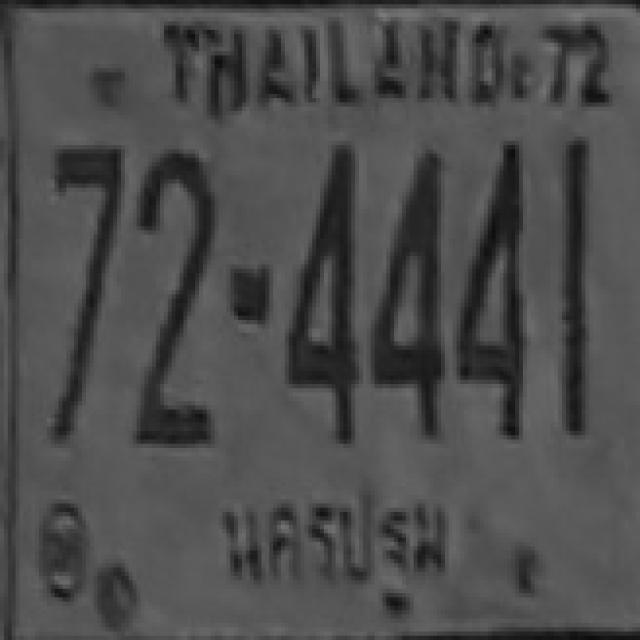1: (558, 139, 589, 356)
2: (130, 247, 212, 444)
7: (51, 143, 121, 318)
NakhonPathom: (209, 468, 459, 629)
